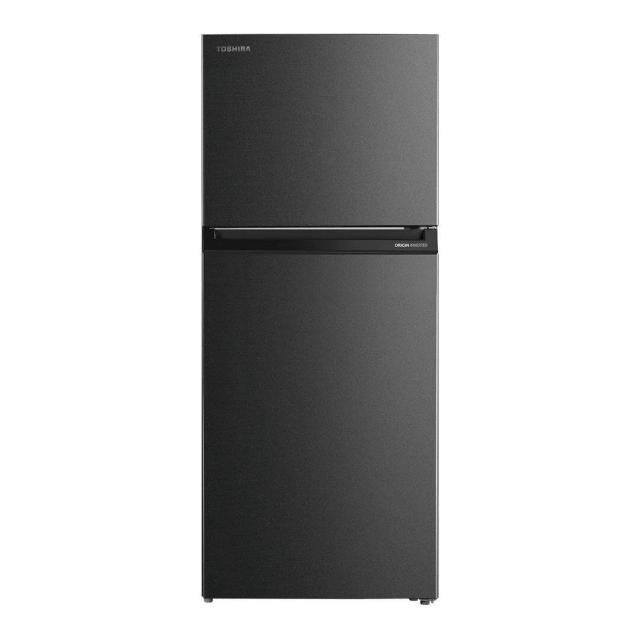refrigerator: (201, 33, 439, 601)
